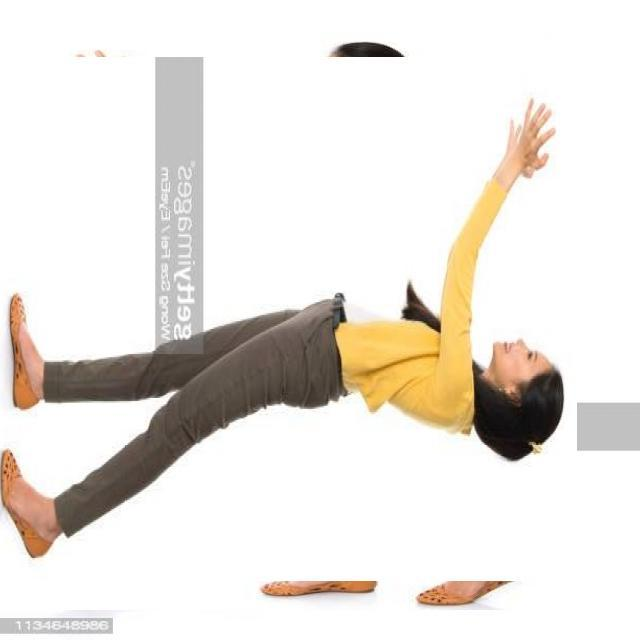NotFall: (31, 178, 590, 596)
